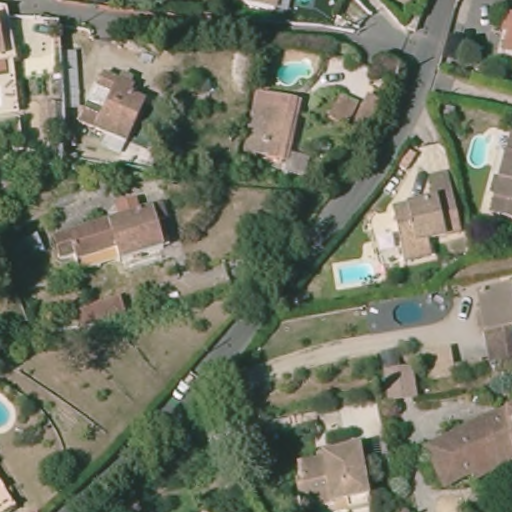pool: (270, 56, 316, 89), (332, 261, 379, 289), (390, 298, 426, 330), (464, 131, 491, 171), (1, 390, 16, 437)
